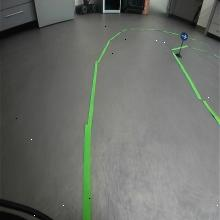right: (180, 32, 188, 41)
